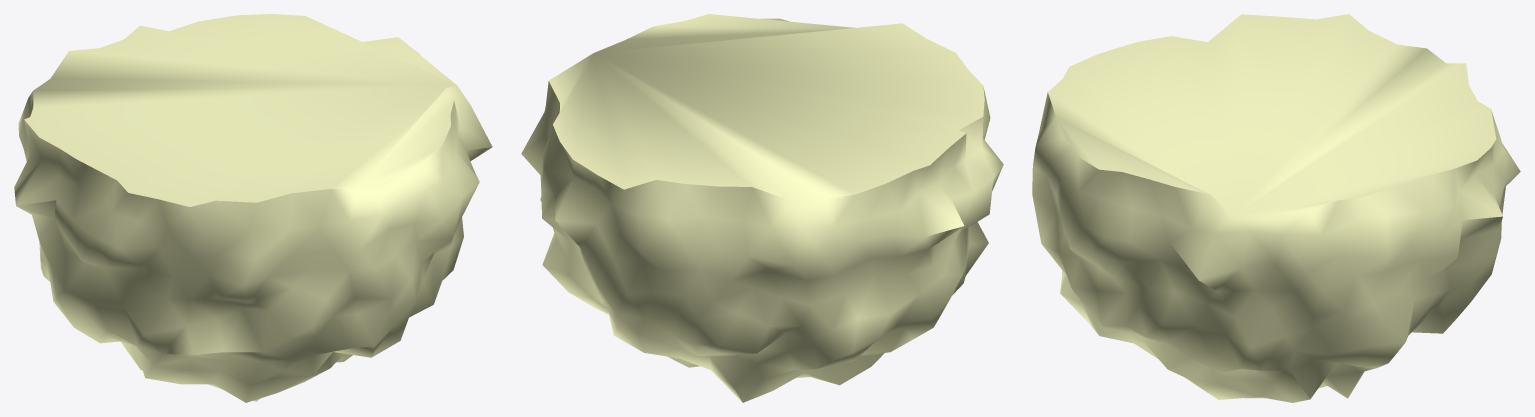
Rendered from Cloud.fbx.
3 renders of one model, left to right at view 1: azimuth 30°, elevation 25°; view 2: azimuth 150°, elevation 25°; view 3: azimuth 270°, elevation 25°, orthographic.
Visible parts, largest first — view 1: Icosphere; view 2: Icosphere; view 3: Icosphere.
Part boxes in pixels (x1,y1,x2,y2): Icosphere: (14, 14, 492, 402); Icosphere: (521, 14, 1003, 402); Icosphere: (1032, 14, 1520, 402).
Bounding box in the file's own units: 207 × 130 × 203.
